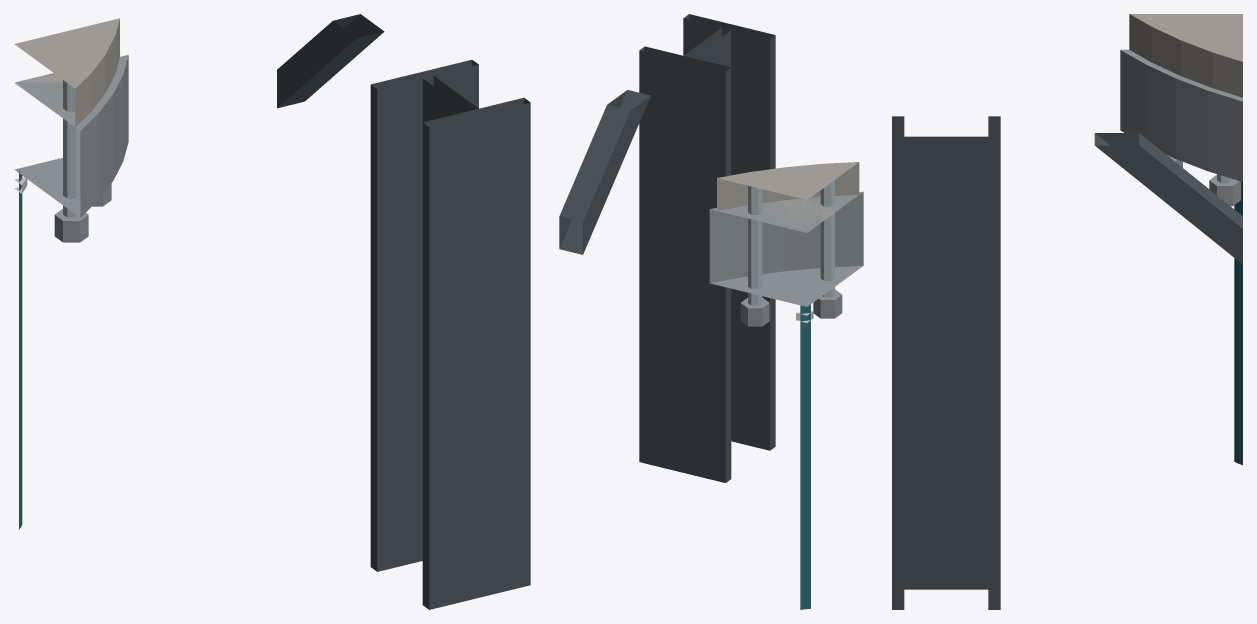
File: cell_17.obj
3 renders of one model, left to right at view 1: azimuth 30°, elevation 25°; view 2: azimuth 150°, elevation 25°; view 3: azimuth 270°, elevation 25°, orthographic. The views are drawn at different scales.
Size of the model in its own units: 0.71 by 1 by 0.71.
